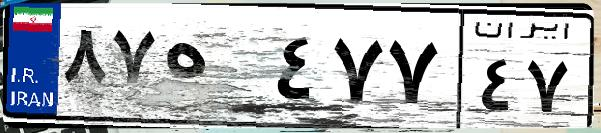4: (270, 28, 330, 110), (475, 38, 525, 113)
7: (385, 28, 445, 110), (330, 28, 385, 110), (525, 38, 570, 115), (110, 28, 158, 98)
8: (57, 26, 110, 100)
ه: (158, 20, 270, 120)
